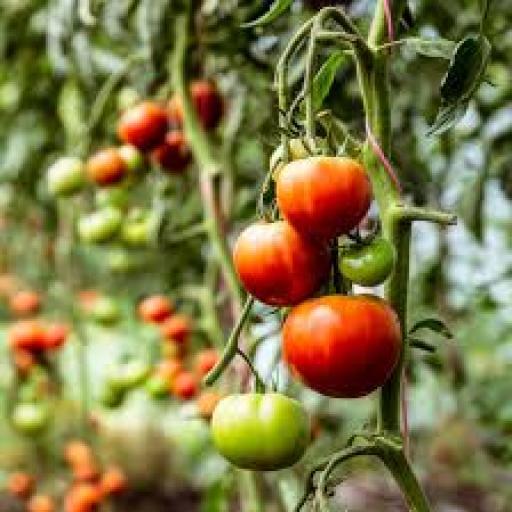tomato: (284, 296, 402, 398), (234, 221, 329, 307), (211, 394, 310, 471), (277, 158, 370, 238), (117, 103, 169, 152), (341, 239, 395, 286), (151, 130, 191, 172), (190, 80, 223, 129), (78, 208, 123, 243), (87, 148, 127, 186), (46, 158, 86, 195), (7, 319, 45, 352), (12, 403, 50, 436), (122, 212, 155, 245), (64, 483, 102, 511), (117, 360, 150, 391), (138, 296, 173, 323), (94, 185, 130, 211), (160, 315, 191, 345), (90, 296, 121, 325), (10, 289, 41, 316), (99, 467, 127, 496), (108, 249, 139, 275), (64, 440, 93, 466), (172, 371, 198, 400), (7, 472, 34, 498), (119, 144, 143, 172), (195, 349, 219, 377), (197, 390, 221, 418), (144, 374, 171, 398), (71, 460, 100, 482), (156, 358, 182, 382), (12, 349, 36, 375), (44, 324, 68, 350), (101, 383, 125, 409), (117, 87, 141, 111), (270, 146, 285, 179), (28, 494, 57, 511)
